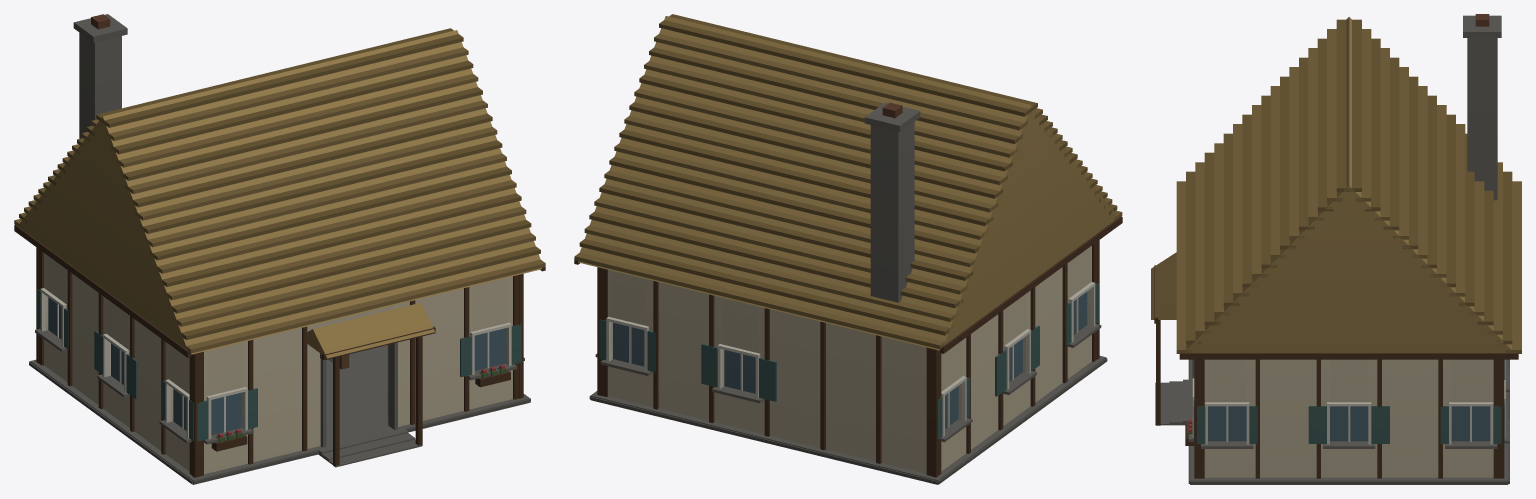
Rendered from town_cottage.glb.
The picture shows the model from 3 angles, left to right: view 1: azimuth 30°, elevation 25°; view 2: azimuth 150°, elevation 25°; view 3: azimuth 270°, elevation 25°; orthographic projection. The views are drawn at different scales.
Visible parts, largest first — view 1: prop; view 2: prop; view 3: prop.
Boxes of the visible parts, x1,y1,x2,y2 form: prop: [14, 14, 545, 484]; prop: [574, 14, 1122, 484]; prop: [1151, 14, 1521, 484].
Size of the model in its own units: 9.94 by 9.14 by 9.12.
